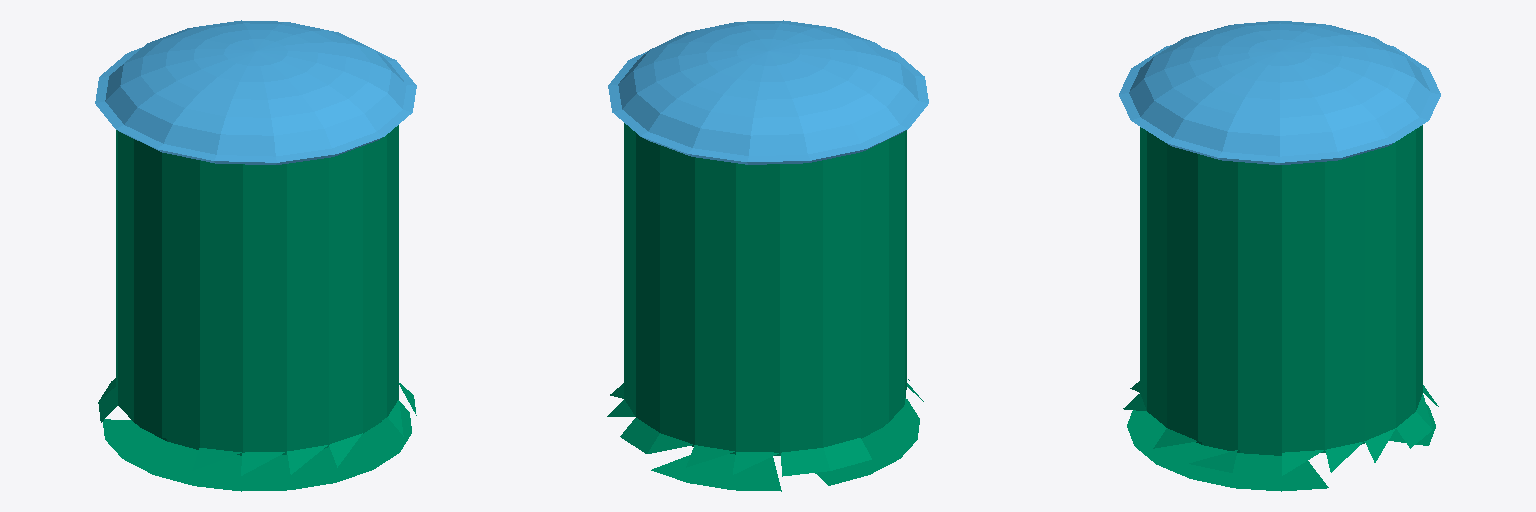
The robot description file, URDF, robot "partnet_dde696b23a0fa0d01529e78b4656a338":
<?xml version="1.0" ?>
<robot name="partnet_dde696b23a0fa0d01529e78b4656a338">
	<link name="base"/>
	<link name="link_0">
		<visual name="lid-2">
			<origin xyz="0.004642593134060485 0 0.013090500000000001"/>
			<geometry>
				<mesh filename="textured_objs/original-2.obj"/>
			</geometry>
		</visual>
		<visual name="lid-2">
			<origin xyz="0.004642593134060485 0 0.013090500000000001"/>
			<geometry>
				<mesh filename="textured_objs/original-1.obj"/>
			</geometry>
		</visual>
		<collision>
			<origin xyz="0.004642593134060485 0 0.013090500000000001"/>
			<geometry>
				<mesh filename="textured_objs/original-2.obj"/>
			</geometry>
		</collision>
		<collision>
			<origin xyz="0.004642593134060485 0 0.013090500000000001"/>
			<geometry>
				<mesh filename="textured_objs/original-1.obj"/>
			</geometry>
		</collision>
	</link>
	<joint name="joint_0" type="prismatic">
		<origin xyz="-0.004642593134060485 0 -0.013090500000000001"/>
		<axis xyz="0 1 0"/>
		<child link="link_0"/>
		<parent link="link_1"/>
		<limit lower="0" upper="0.04800000000000004"/>
	</joint>
	<link name="link_1">
		<visual name="container-3">
			<origin xyz="0 0 0"/>
			<geometry>
				<mesh filename="textured_objs/new-1.obj"/>
			</geometry>
		</visual>
		<visual name="bottom-4">
			<origin xyz="0 0 0"/>
			<geometry>
				<mesh filename="textured_objs/new-0.obj"/>
			</geometry>
		</visual>
		<collision>
			<origin xyz="0 0 0"/>
			<geometry>
				<mesh filename="textured_objs/new-1.obj"/>
			</geometry>
		</collision>
		<collision>
			<origin xyz="0 0 0"/>
			<geometry>
				<mesh filename="textured_objs/new-0.obj"/>
			</geometry>
		</collision>
	</link>
	<joint name="joint_1" type="fixed">
		<origin rpy="1.570796326794897 0 -1.570796326794897" xyz="0 0 0"/>
		<child link="link_1"/>
		<parent link="base"/>
	</joint>
</robot>

--- Facts derived from the render (not from the file) ---
Views: 3 orthographic renders of the robot side by side, from view 1: azimuth 30°, elevation 25°; view 2: azimuth 150°, elevation 25°; view 3: azimuth 270°, elevation 25°.
Model partnet_dde696b23a0fa0d01529e78b4656a338 with 3 links and 2 joints (1 prismatic, 1 fixed), rooted at base, posed every joint at zero.
Visible links, largest first — view 1: link_1, link_0; view 2: link_1, link_0; view 3: link_1, link_0.
Boxes of the visible links, x1,y1,x2,y2 form: link_1: (98,125,416,491); link_0: (95,20,416,164); link_1: (607,123,923,491); link_0: (608,20,928,164); link_1: (1123,125,1438,491); link_0: (1119,21,1440,164).
Size in the robot's own frame: 1.29 by 1.29 by 1.64 metres.
2 mesh visuals loaded from 4 distinct referenced files (2 OBJ); not drawn: 2 (reference not matched to a file when rendering).
